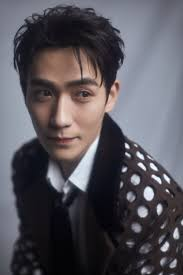asian_male: (1, 14, 108, 165)
